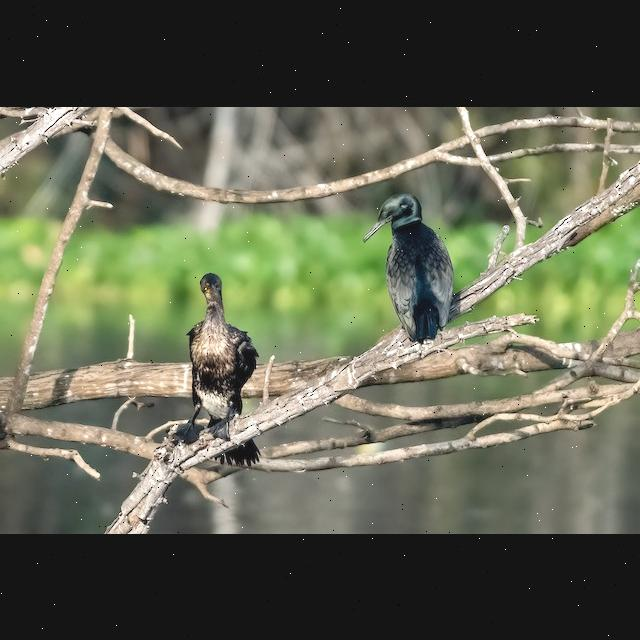cormorant: (165, 267, 268, 469), (361, 189, 463, 361)
